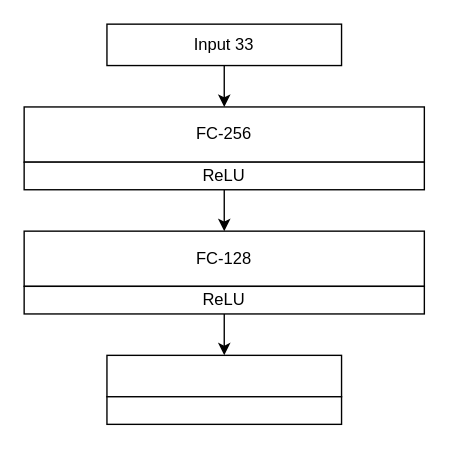
Some shapes in this 449 by 449 pixel diagram are drawn without their labels. Each missing label, with the centre of its shape:
FC-4: the point at 224,375
tanh: the point at 224,409
